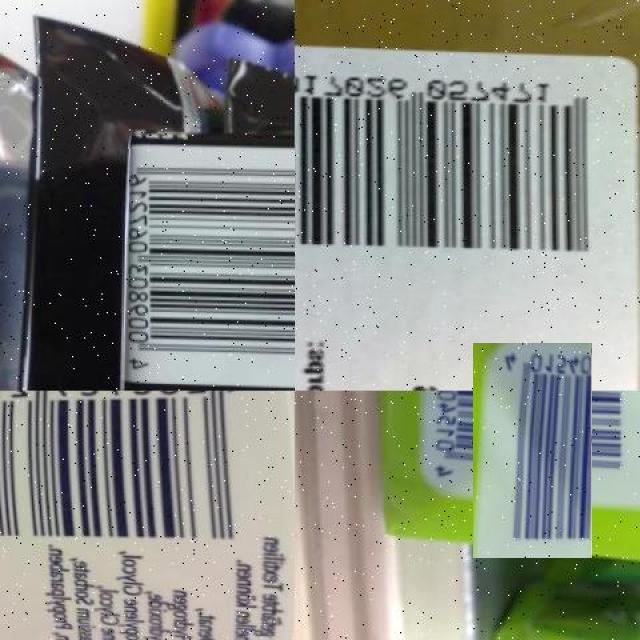Barcode: (295, 56, 613, 267), (0, 391, 266, 554), (123, 149, 294, 391), (449, 367, 616, 534)
